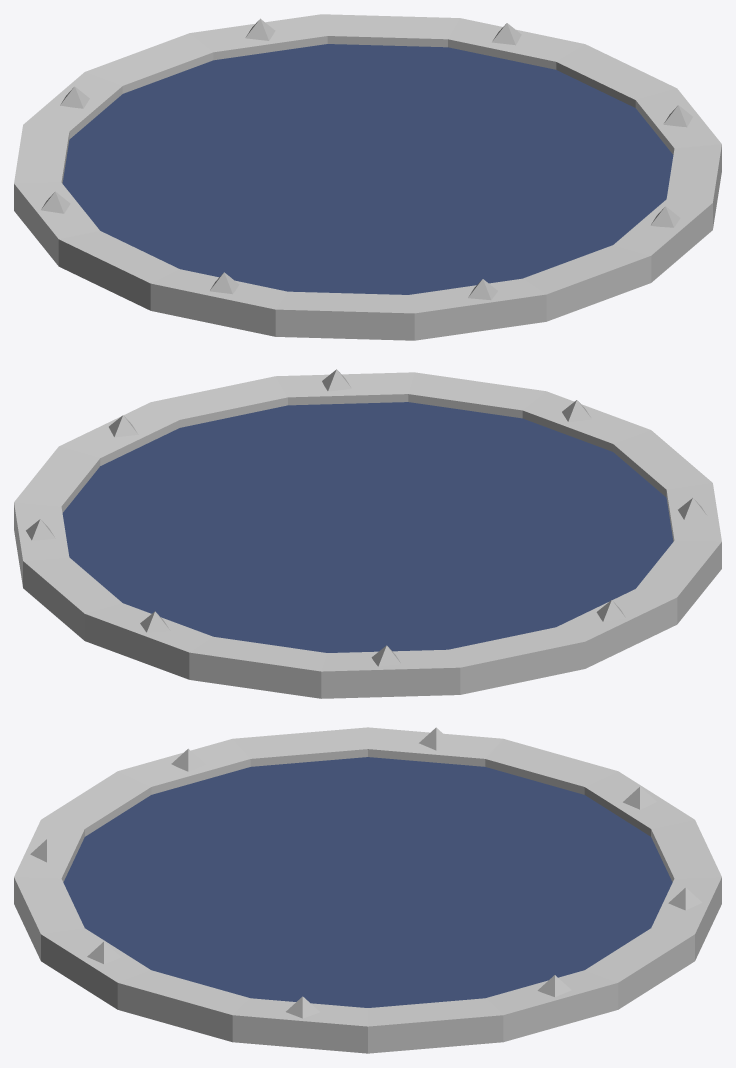
The model's file is Shield_1_b_bl.fbx.
3 views of the same model, one above another, from view 1: azimuth 30°, elevation 25°; view 2: azimuth 150°, elevation 25°; view 3: azimuth 270°, elevation 25° (orthographic).
Parts seen in each view (by area): view 1: Circle.275, Circle.274; view 2: Circle.275, Circle.274; view 3: Circle.275, Circle.274.
Part boxes in pixels (x1,y1,x2,y2): Circle.275: [62, 44, 673, 294]; Circle.274: [14, 14, 721, 340]; Circle.275: [62, 402, 673, 652]; Circle.274: [14, 372, 721, 698]; Circle.275: [63, 757, 672, 1007]; Circle.274: [14, 727, 721, 1053].
Size of the model in its own units: 80.85 by 16.22 by 80.85.
